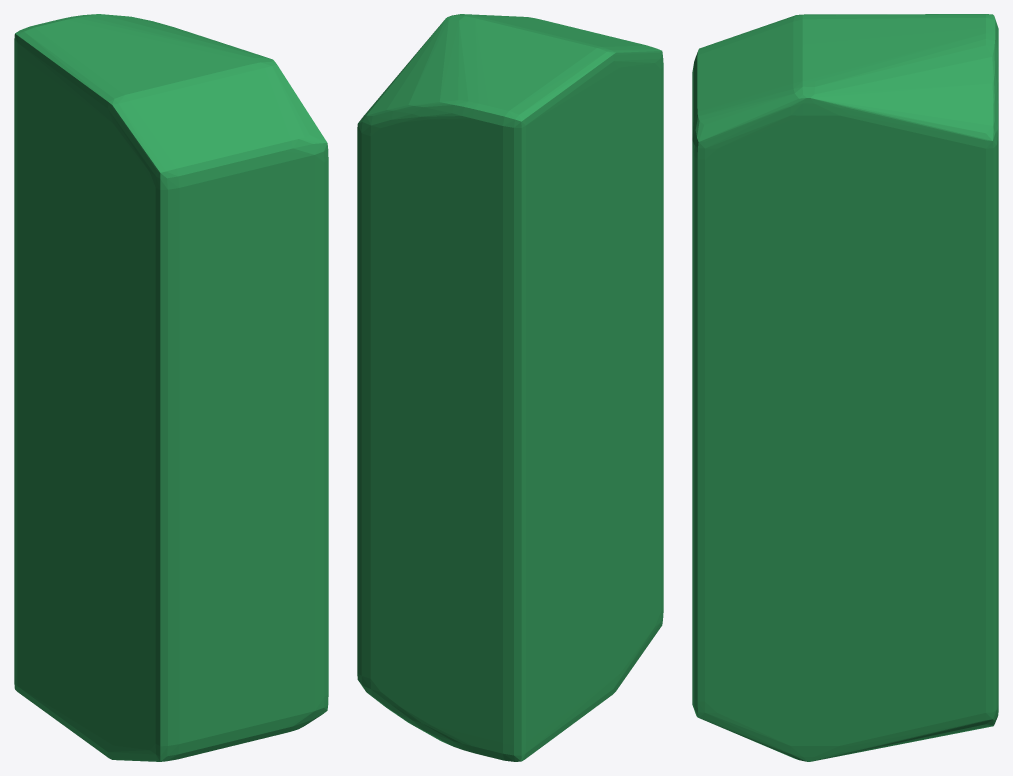
Rendered from right_forearm_1_part_10.obj.
3 renders of one model, left to right at view 1: azimuth 30°, elevation 25°; view 2: azimuth 150°, elevation 25°; view 3: azimuth 270°, elevation 25°, orthographic. The views are drawn at different scales.
Bounding box in the file's own units: 36.18 × 135 × 55.68.
